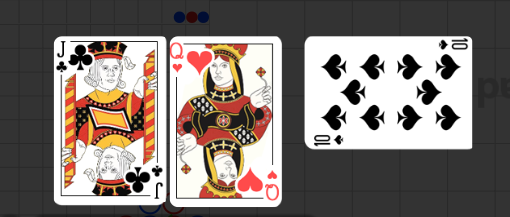10S: (312, 133, 346, 148), (436, 38, 469, 52)
JC: (150, 163, 166, 200)
